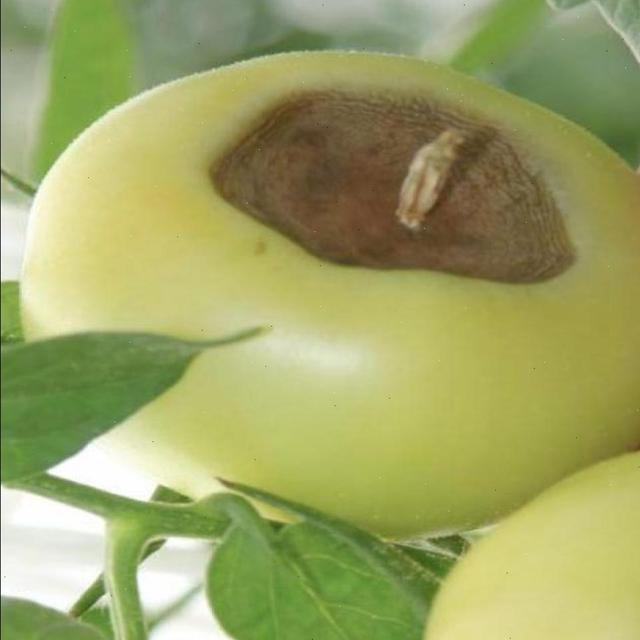Blossom End Rot Fruit: (134, 59, 391, 192)
